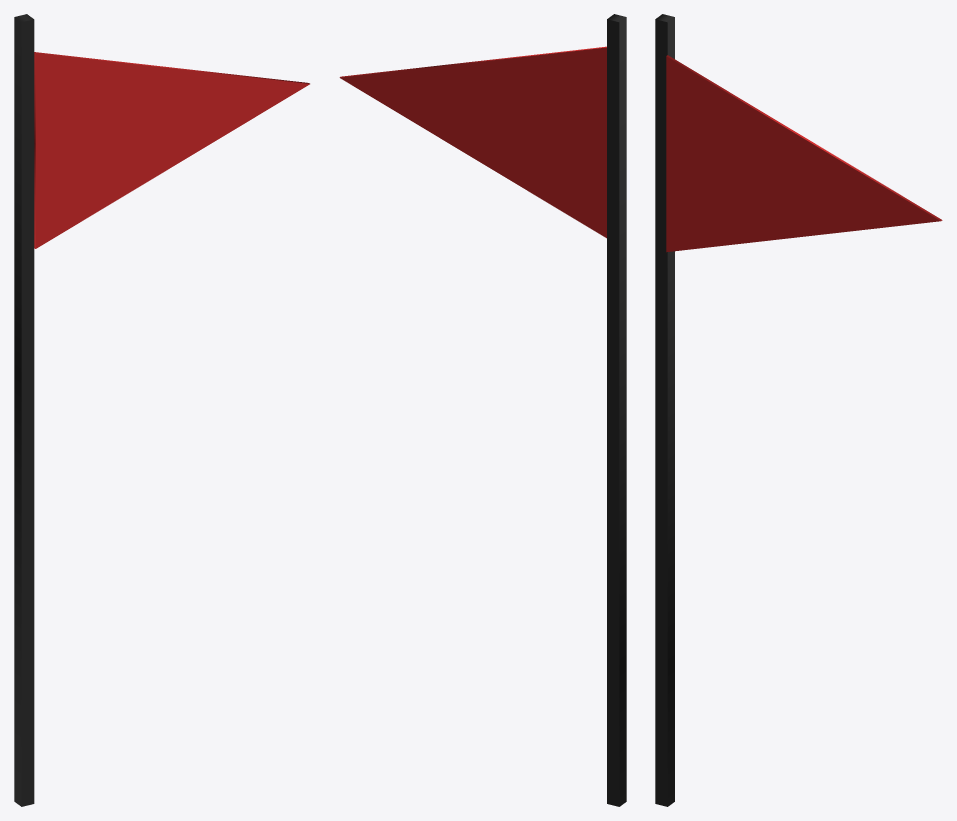
The picture shows the model from 3 angles, left to right: view 1: azimuth 30°, elevation 25°; view 2: azimuth 150°, elevation 25°; view 3: azimuth 330°, elevation 25°; orthographic projection.
Parts seen in each view (by area): view 1: K1_p50, K1_r00; view 2: K1_p50, K1_r00; view 3: K1_p50, K1_r00.
Boxes of the visible parts, x1,y1,x2,y2 form: K1_p50: (34, 52, 309, 248); K1_r00: (14, 14, 34, 806); K1_p50: (339, 46, 606, 238); K1_r00: (607, 14, 626, 806); K1_p50: (666, 55, 942, 252); K1_r00: (655, 14, 674, 806).
Bounding box in the file's own units: 0.46 × 1.2 × 0.024.
